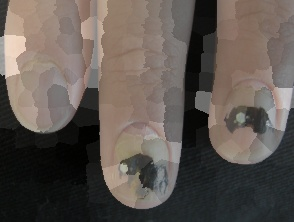SJS-TEN: (199, 70, 294, 173), (105, 119, 182, 209)
